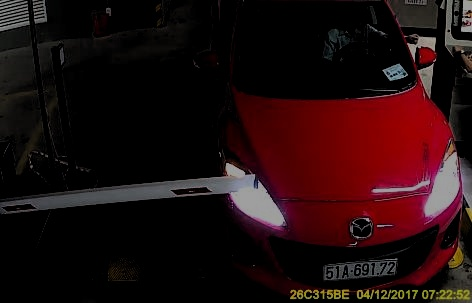plate: (323, 258, 399, 280)
